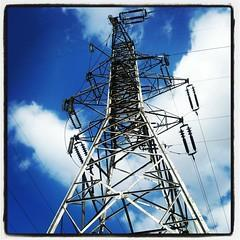power_tower: (48, 10, 210, 240)
